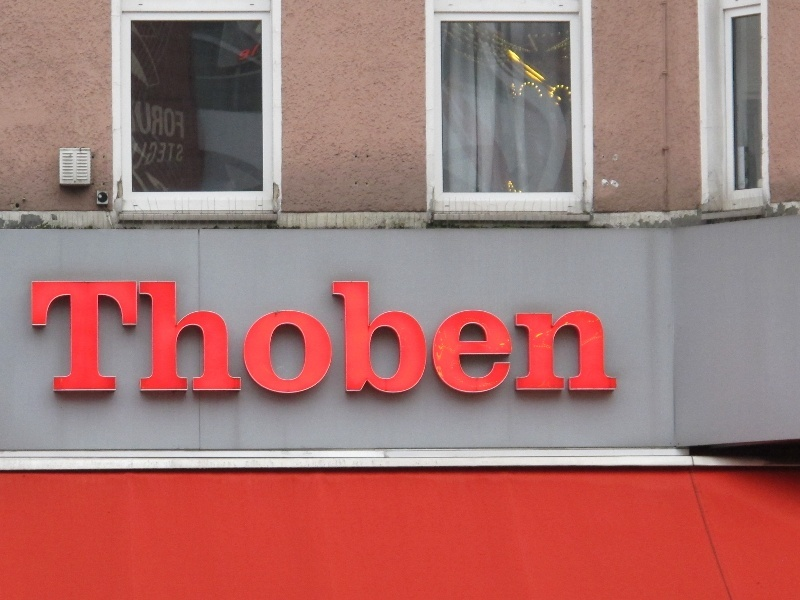text: (33, 271, 48, 399), (49, 271, 64, 399), (65, 271, 80, 399), (81, 271, 96, 399), (97, 271, 112, 399), (113, 271, 128, 399), (129, 271, 144, 399), (145, 271, 160, 399), (161, 271, 176, 399), (177, 271, 192, 399), (193, 271, 208, 399), (209, 271, 224, 399), (225, 271, 240, 399), (241, 271, 256, 399), (257, 271, 272, 399), (273, 271, 288, 399), (289, 271, 304, 399), (305, 271, 320, 399), (321, 271, 336, 399), (337, 271, 352, 399), (353, 271, 368, 399), (369, 271, 384, 399), (385, 271, 400, 399), (401, 271, 416, 399), (417, 271, 432, 399), (433, 271, 448, 399), (449, 271, 464, 399), (465, 271, 480, 399), (481, 271, 496, 399), (497, 271, 512, 399), (513, 271, 528, 399), (529, 271, 544, 399), (545, 271, 560, 399), (561, 271, 576, 399), (577, 271, 592, 399), (593, 271, 608, 399), (609, 271, 619, 399), (145, 101, 160, 139), (161, 101, 176, 139), (131, 101, 144, 139), (145, 143, 160, 170), (161, 143, 176, 170), (133, 143, 144, 170), (177, 101, 184, 139), (177, 143, 183, 170), (31, 271, 32, 399)
